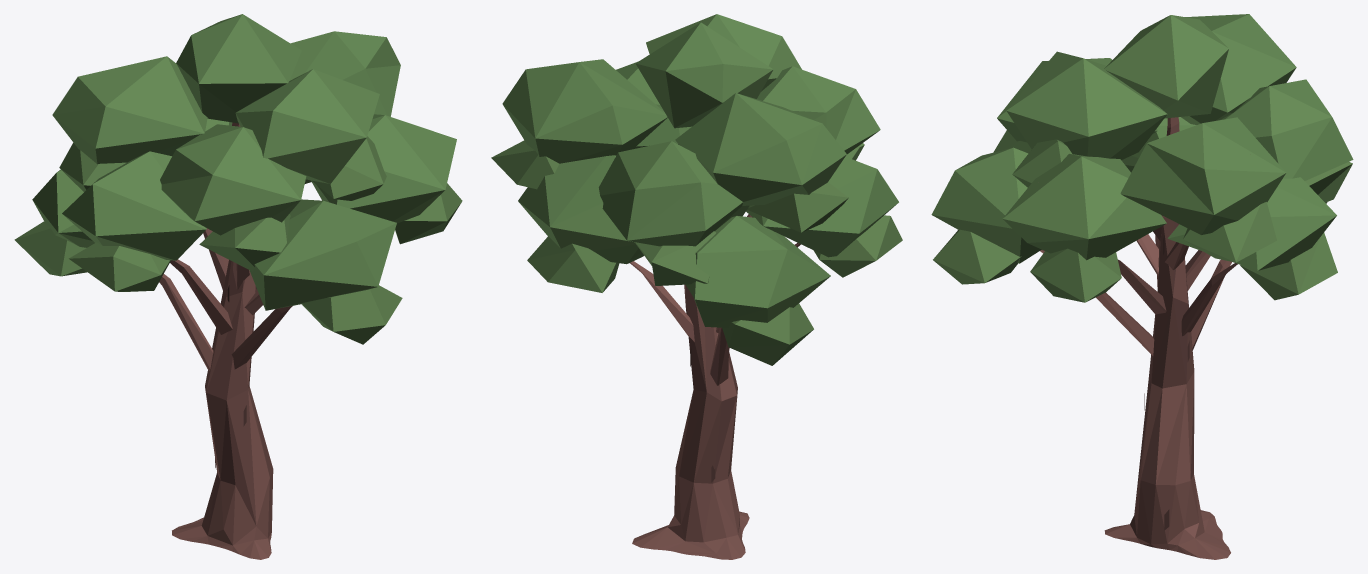
Rendered from cherry_wild_summer.glb.
3 renders of one model, left to right at view 1: azimuth 30°, elevation 25°; view 2: azimuth 150°, elevation 25°; view 3: azimuth 270°, elevation 25°, orthographic. The views are drawn at different scales.
Parts seen in each view (by area): view 1: leaves, branches; view 2: leaves, branches; view 3: leaves, branches.
Part boxes in pixels (x1=…): leaves: x1=14, y1=14, x2=462, y2=344; branches: x1=159, y1=122, x2=292, y2=559; leaves: x1=491, y1=14, x2=902, y2=365; branches: x1=630, y1=214, x2=800, y2=559; leaves: x1=931, y1=14, x2=1353, y2=302; branches: x1=1040, y1=117, x2=1237, y2=559.
Size of the model in its own units: 3.31 by 4.6 by 3.37.
